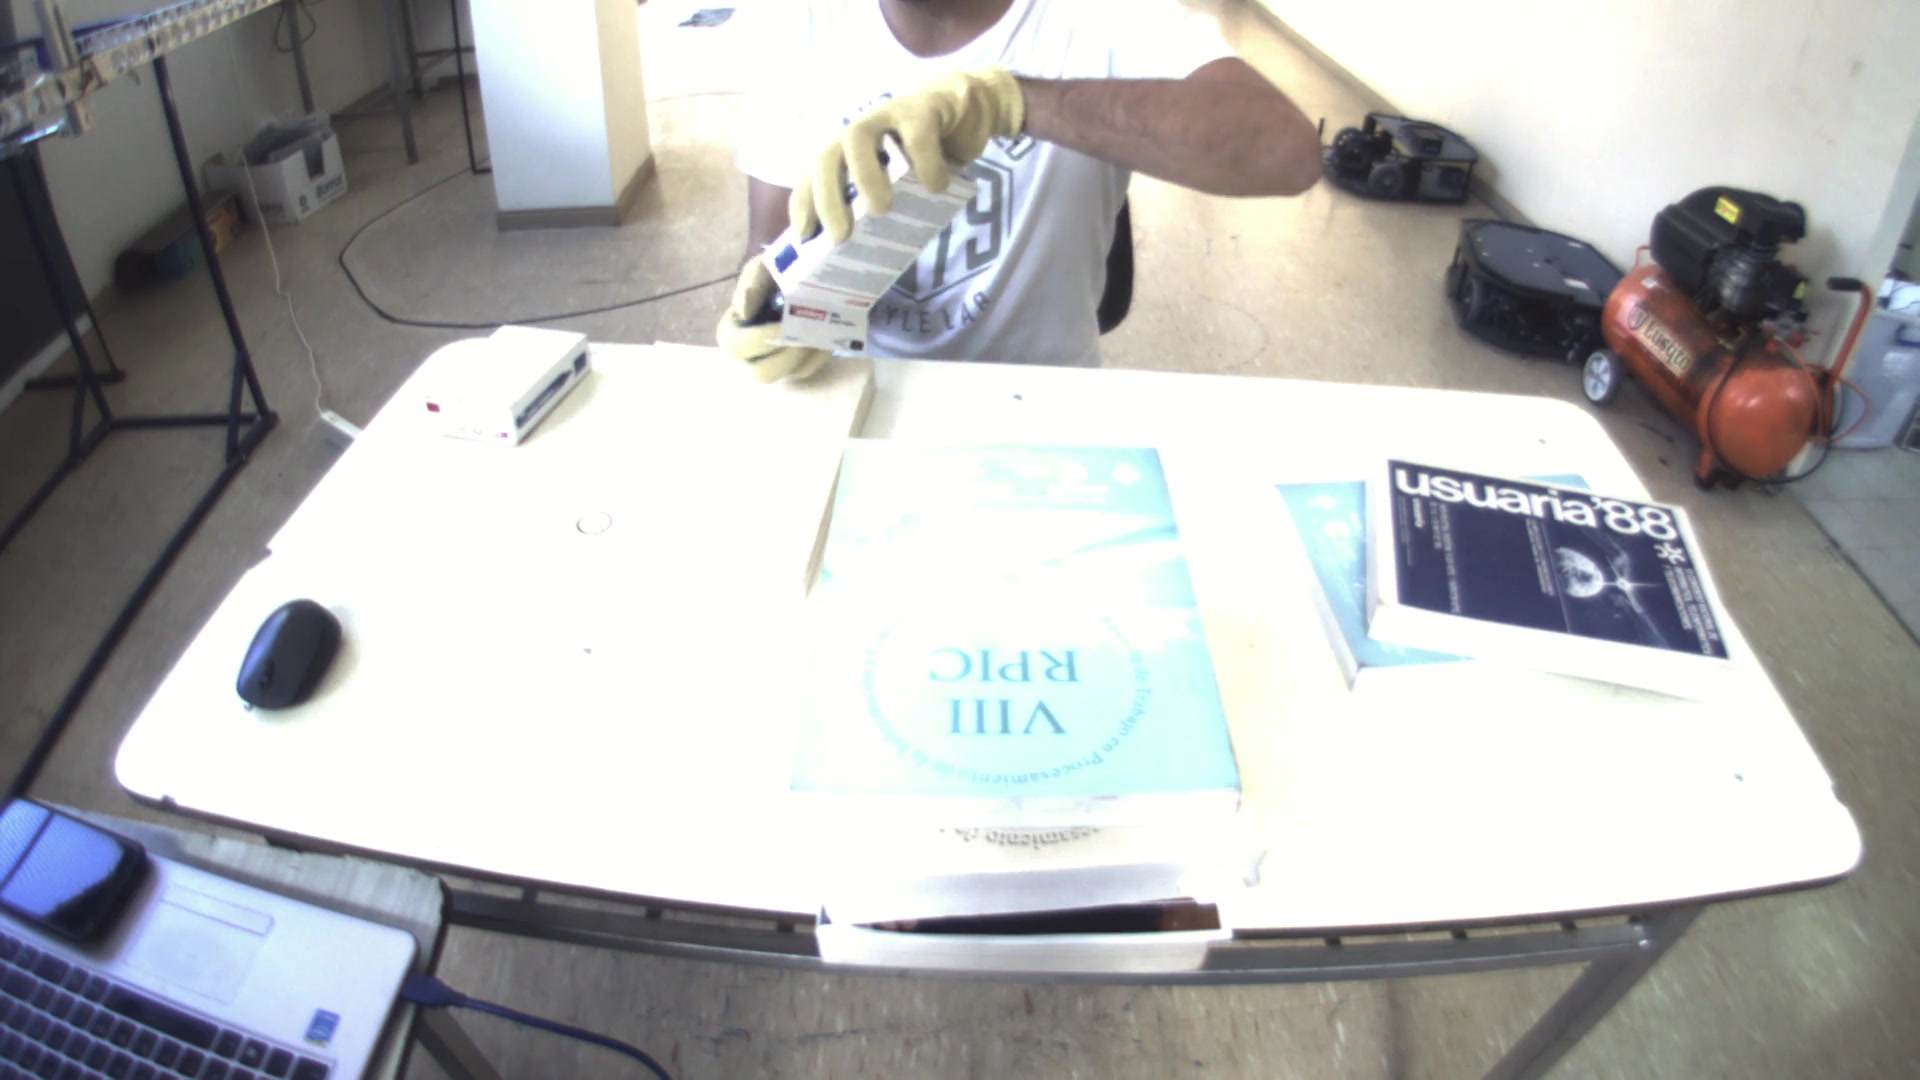hand: (775, 57, 1033, 229), (717, 258, 827, 380)
